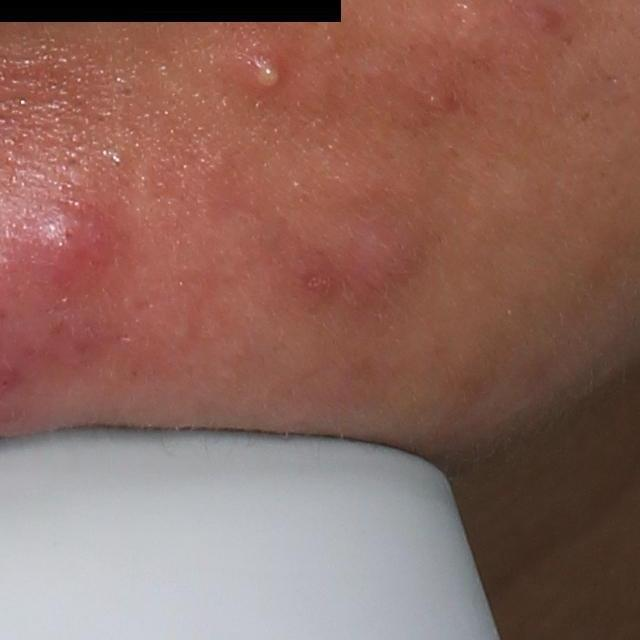comedo: (115, 80, 137, 103)
papule: (313, 215, 408, 305), (410, 73, 457, 121)
pustule: (234, 31, 300, 98)
